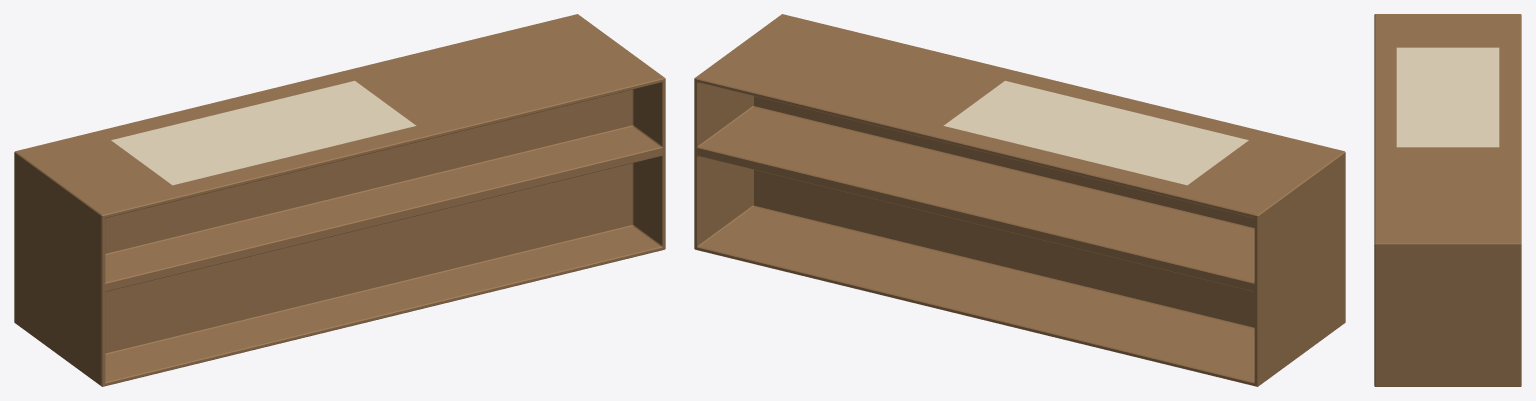
File: Counter.fbx
The picture shows the model from 3 angles, left to right: view 1: azimuth 30°, elevation 25°; view 2: azimuth 150°, elevation 25°; view 3: azimuth 270°, elevation 25°; orthographic projection. The views are drawn at different scales.
Parts seen in each view (by area): view 1: Mostrador; view 2: Mostrador; view 3: Mostrador.
Part boxes in pixels (left/top/right/bottom): Mostrador: left=14, top=14, right=665, bottom=386; Mostrador: left=694, top=14, right=1345, bottom=386; Mostrador: left=1374, top=14, right=1521, bottom=386.
Size of the model in its own units: 740 by 216 by 200.
